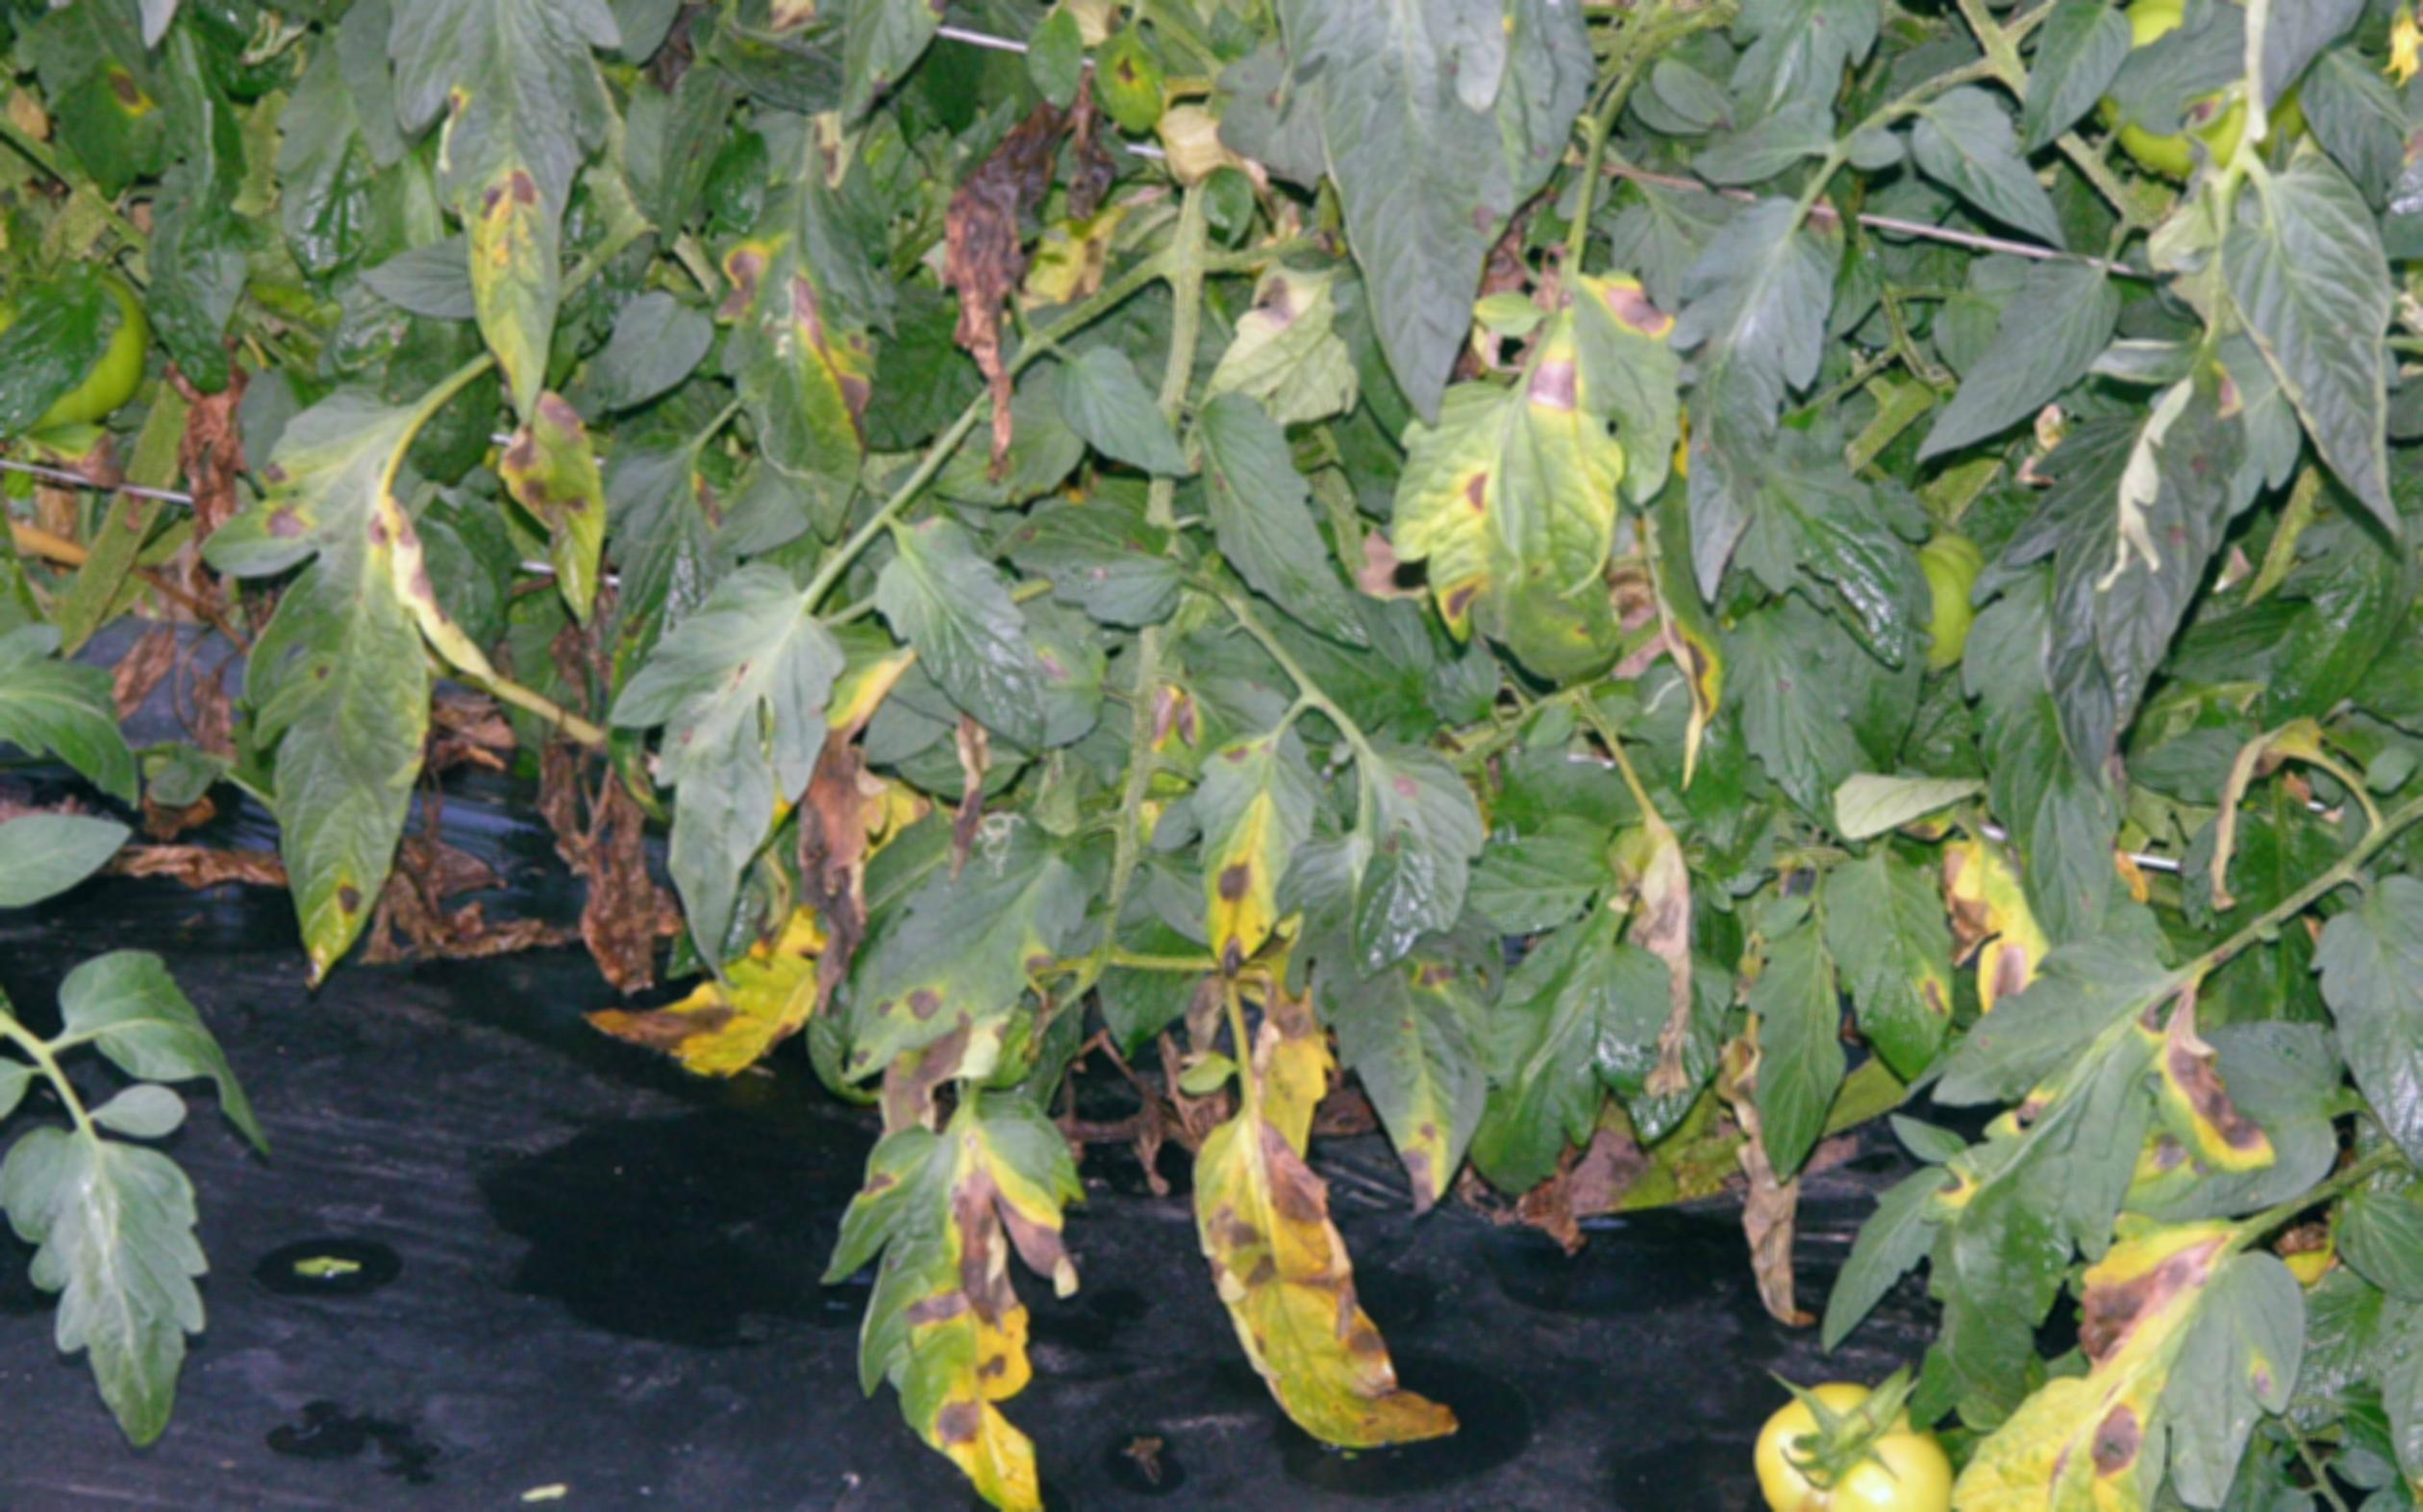Tomato Early blight leaf: (214, 334, 455, 993), (1160, 1059, 1460, 1512), (376, 0, 658, 413), (1986, 1188, 2317, 1512), (857, 1097, 1092, 1512), (726, 122, 911, 542), (1388, 395, 1641, 662), (1799, 840, 1977, 1125), (1202, 702, 1322, 977), (483, 387, 624, 606), (1003, 0, 1232, 118)
Tomato leaf: (0, 1113, 235, 1444), (2235, 155, 2399, 521), (1176, 397, 1376, 660), (1679, 206, 1799, 624), (871, 509, 1057, 766), (2313, 878, 2423, 1195), (1920, 267, 2097, 458), (1902, 101, 2085, 260)
